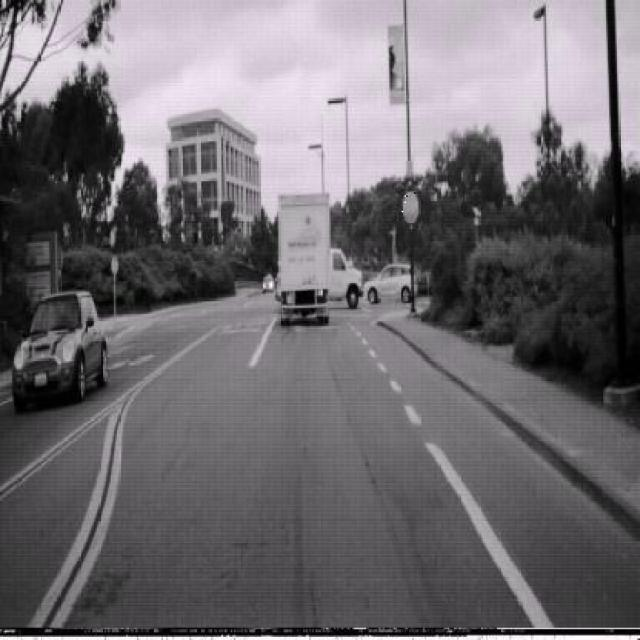stop: (402, 189, 419, 224)
